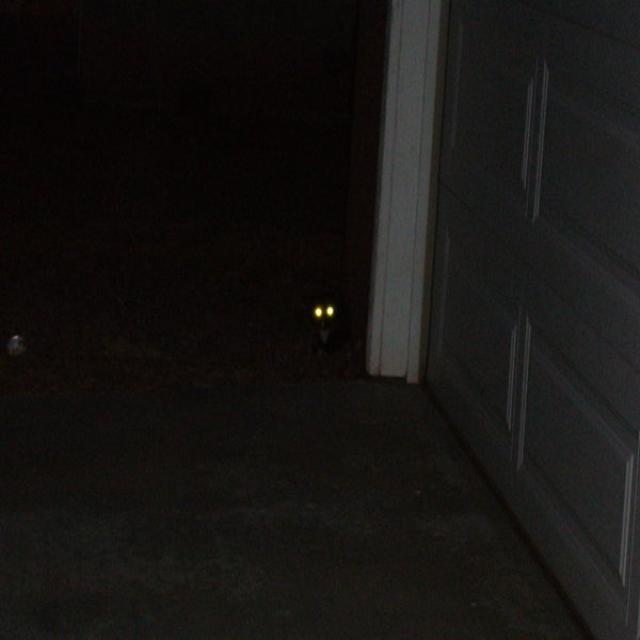Cat: (299, 274, 356, 360)
